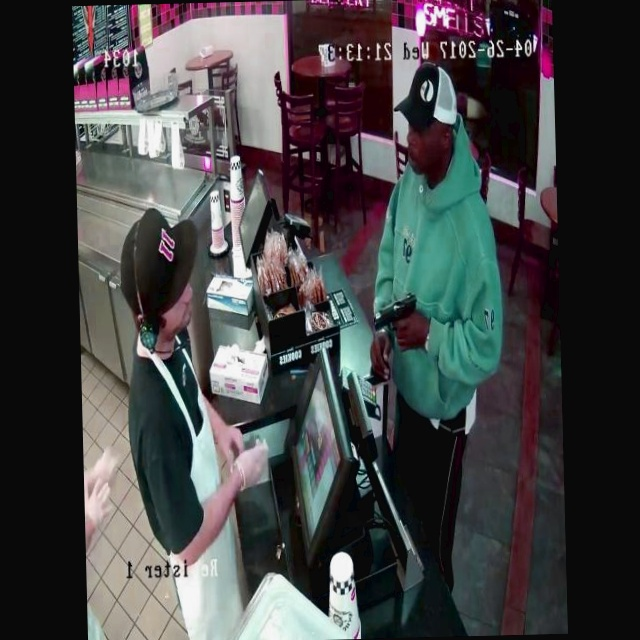gun: (366, 281, 434, 357)
